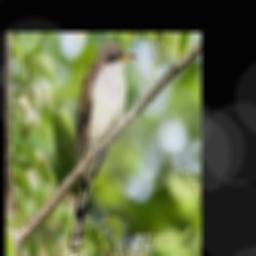Cuckoo: (69, 41, 135, 251)
